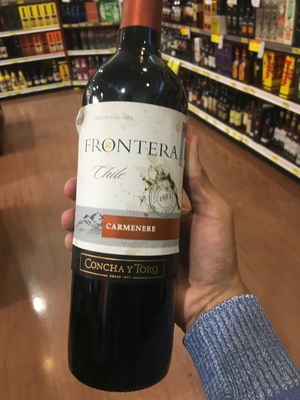frontera carmenere: (61, 2, 210, 400)
